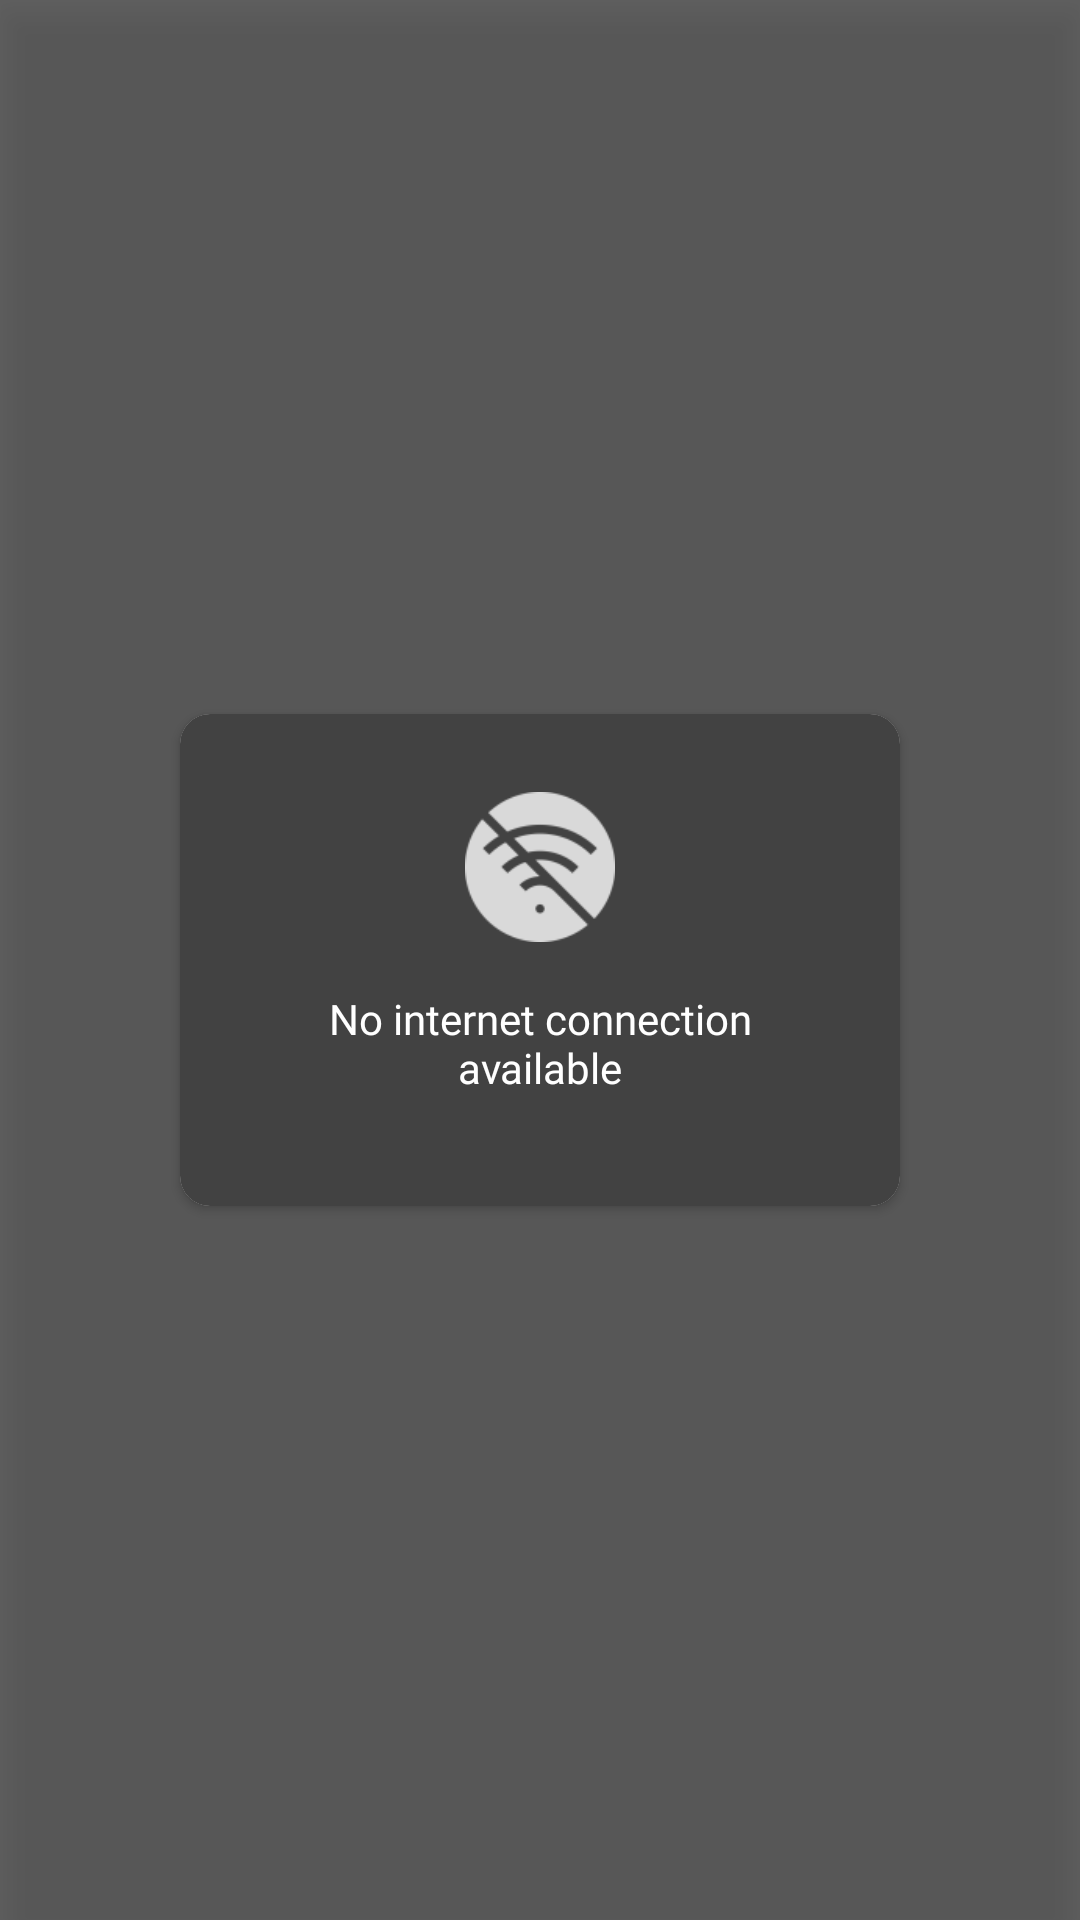

Icon bounding boxes for this 1080 × 1920 phone screenshot, format (x1, y1, x2, y2):
no wifi: (465, 792, 615, 942)
